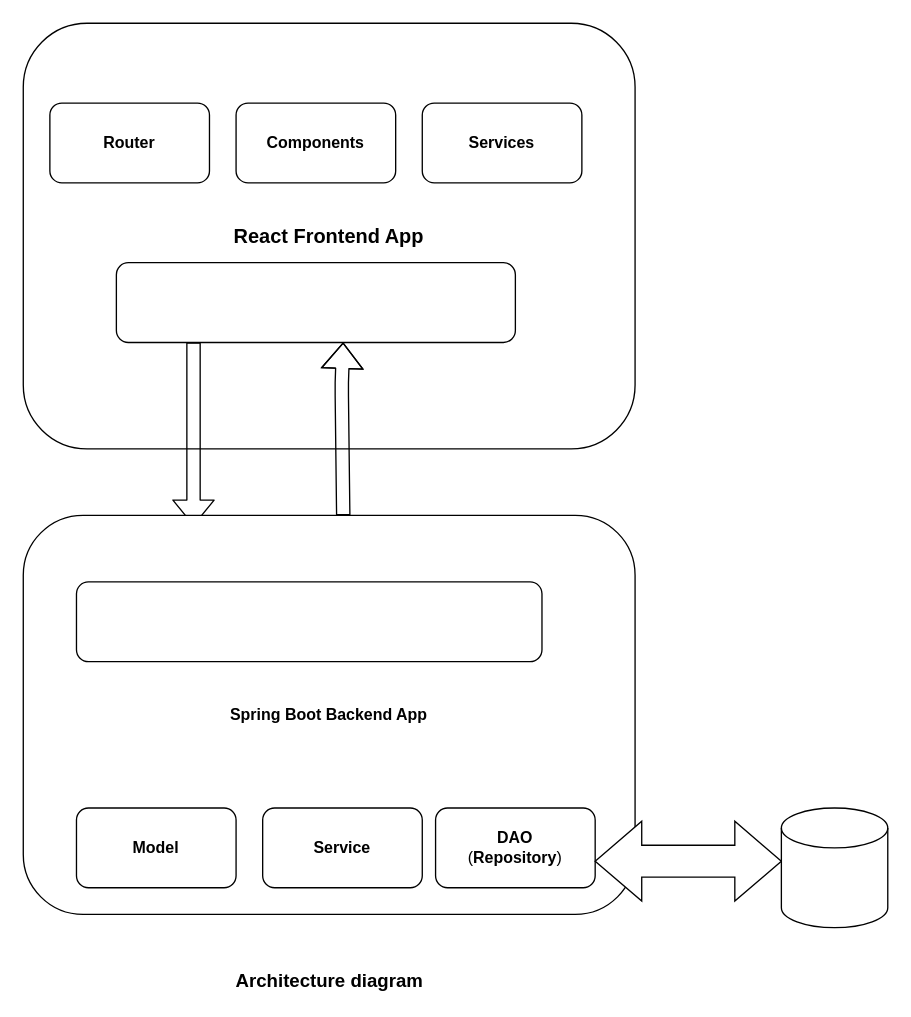
This 911x1017 diagram has some shape labels left out. Here are the shapes that lost their labels. From the top down, the centre of each, then its label:
(315,301): Fetch API/Axios library
(308,621): Spring REST Controller
(834,867): My SQL Database
